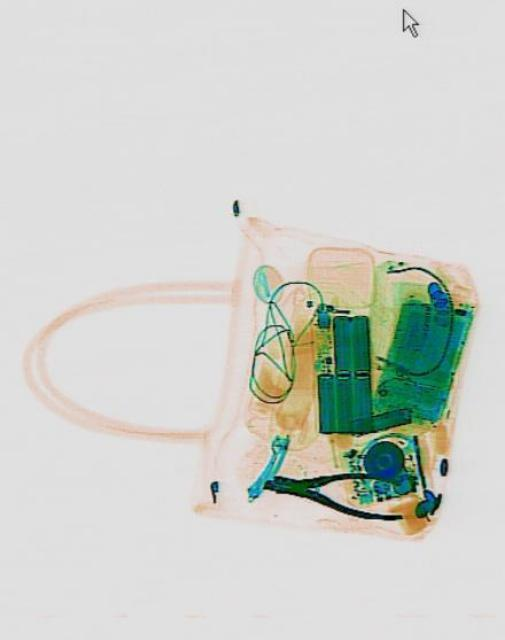Pliers: (259, 456, 404, 522)
